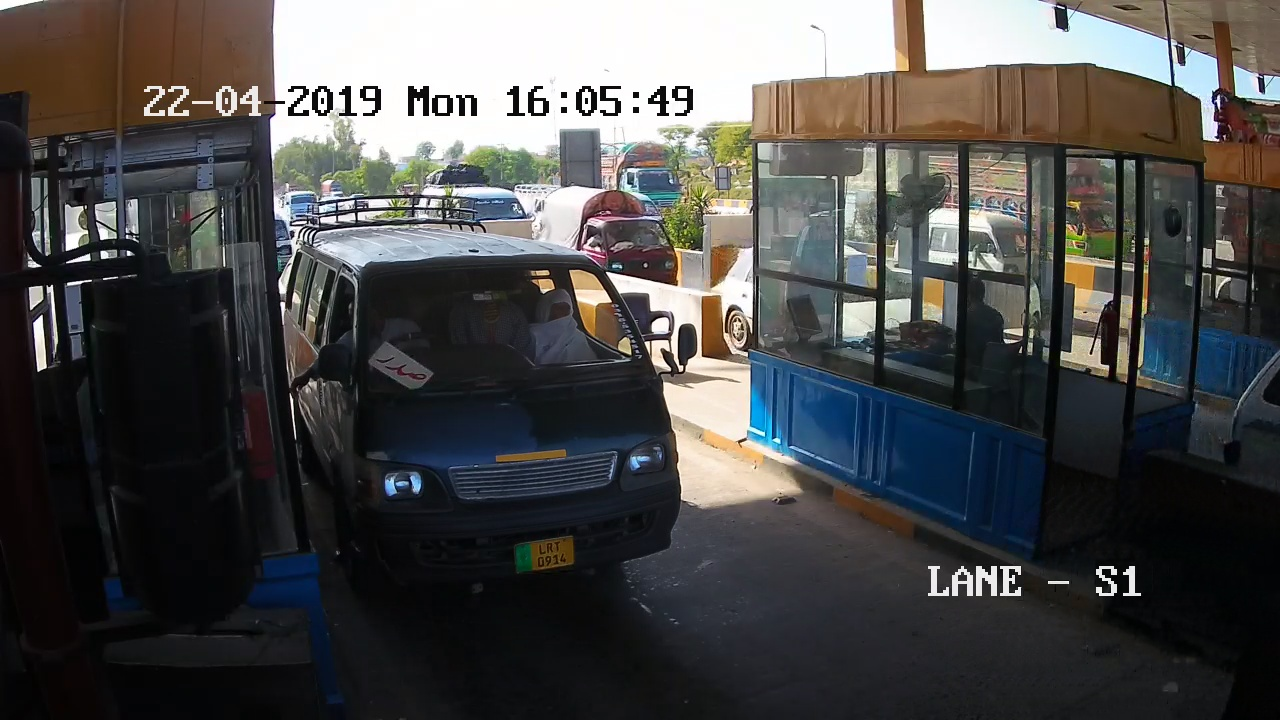Number Plate (Car): (512, 536, 573, 574)
